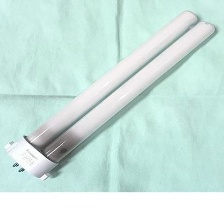light_bulb: (34, 17, 217, 170), (22, 7, 202, 151)
